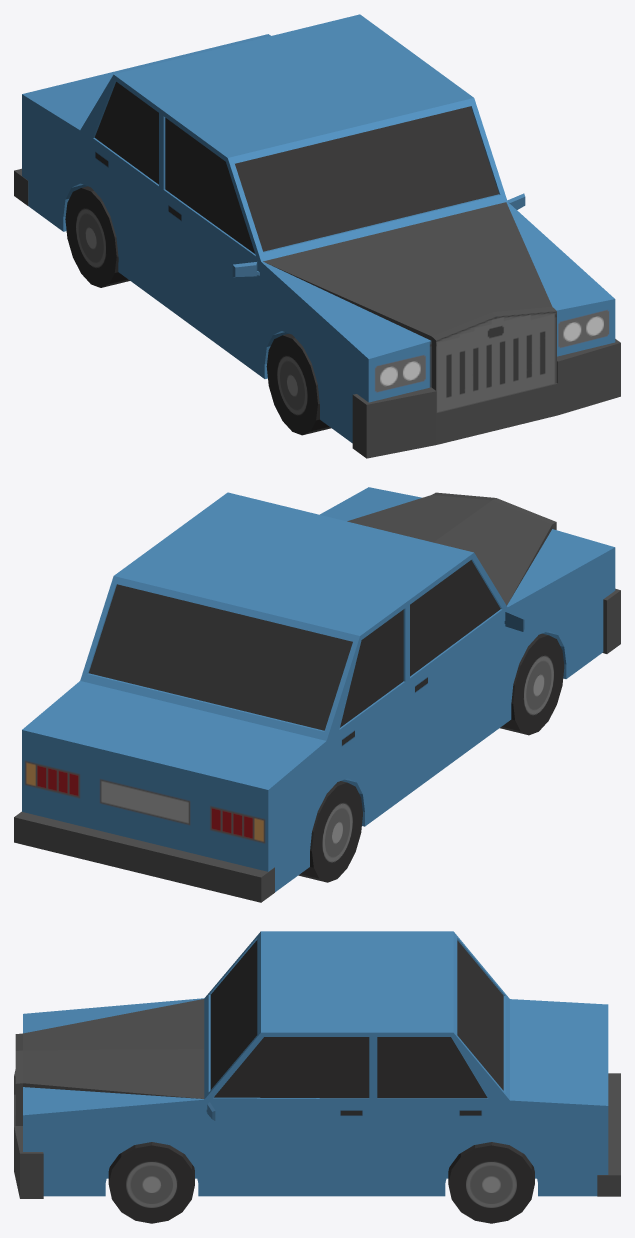
Rendered from car.glb.
3 renders of one model, top to bottom at view 1: azimuth 30°, elevation 25°; view 2: azimuth 150°, elevation 25°; view 3: azimuth 270°, elevation 25°, orthographic. The views are drawn at different scales.
Parts seen in each view (by area): view 1: Vehicle_Car_Cube.050; view 2: Vehicle_Car_Cube.050; view 3: Vehicle_Car_Cube.050.
Part boxes in pixels (<box>): Vehicle_Car_Cube.050: <box>14,14,620,458</box>; Vehicle_Car_Cube.050: <box>14,487,620,902</box>; Vehicle_Car_Cube.050: <box>14,931,620,1223</box>.
Size of the model in its own units: 2.96 by 2.2 by 6.32.
1 material, 1 textured.
